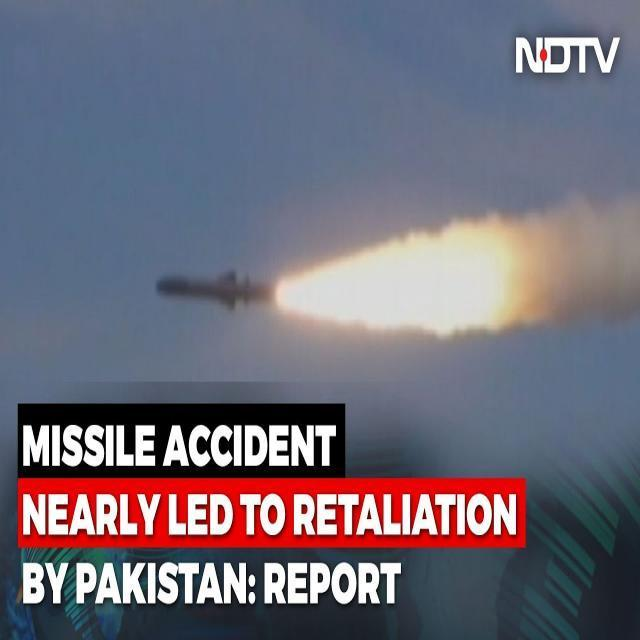Missile: (156, 263, 283, 311)
